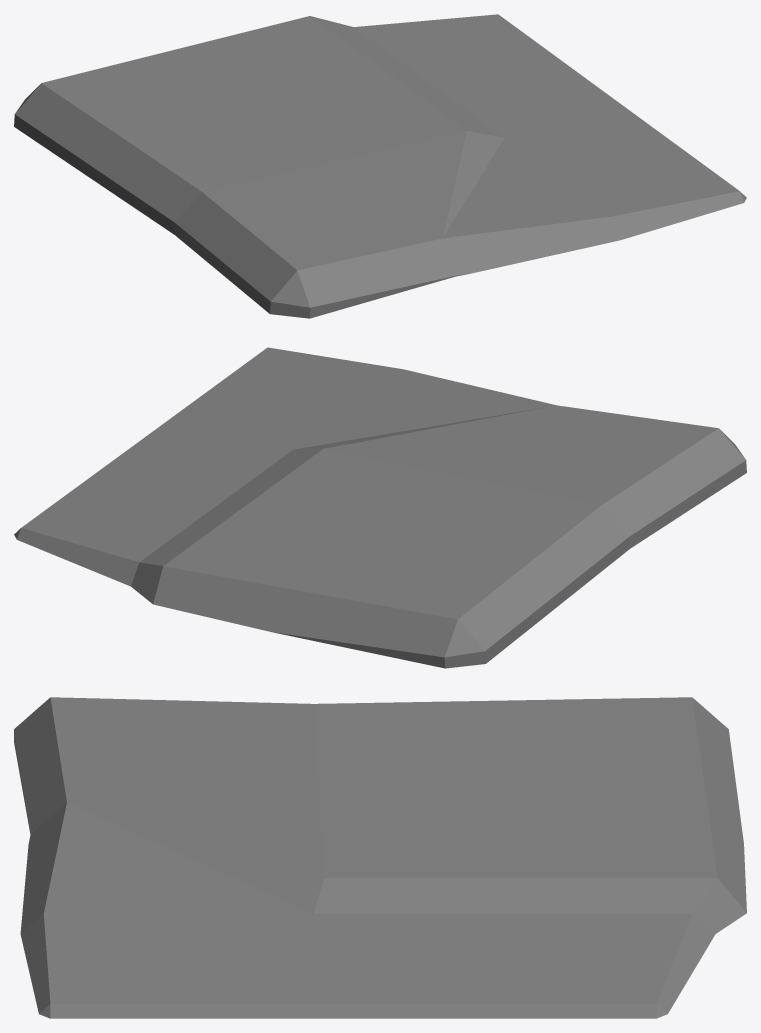
File: model_polytope_pavement03.fbx
3 views of the same model, one above another, from view 1: azimuth 30°, elevation 25°; view 2: azimuth 150°, elevation 25°; view 3: azimuth 270°, elevation 25° (orthographic). The views are drawn at different scales.
Parts seen in each view (by area): view 1: model_polytope_pavement03; view 2: model_polytope_pavement03; view 3: model_polytope_pavement03.
Part boxes in pixels (box(x1,y1,x2,y2)): model_polytope_pavement03: box(14, 14, 746, 318); model_polytope_pavement03: box(14, 347, 746, 668); model_polytope_pavement03: box(14, 697, 746, 1018).
Size of the model in its own units: 99.54 by 7.39 by 106.
